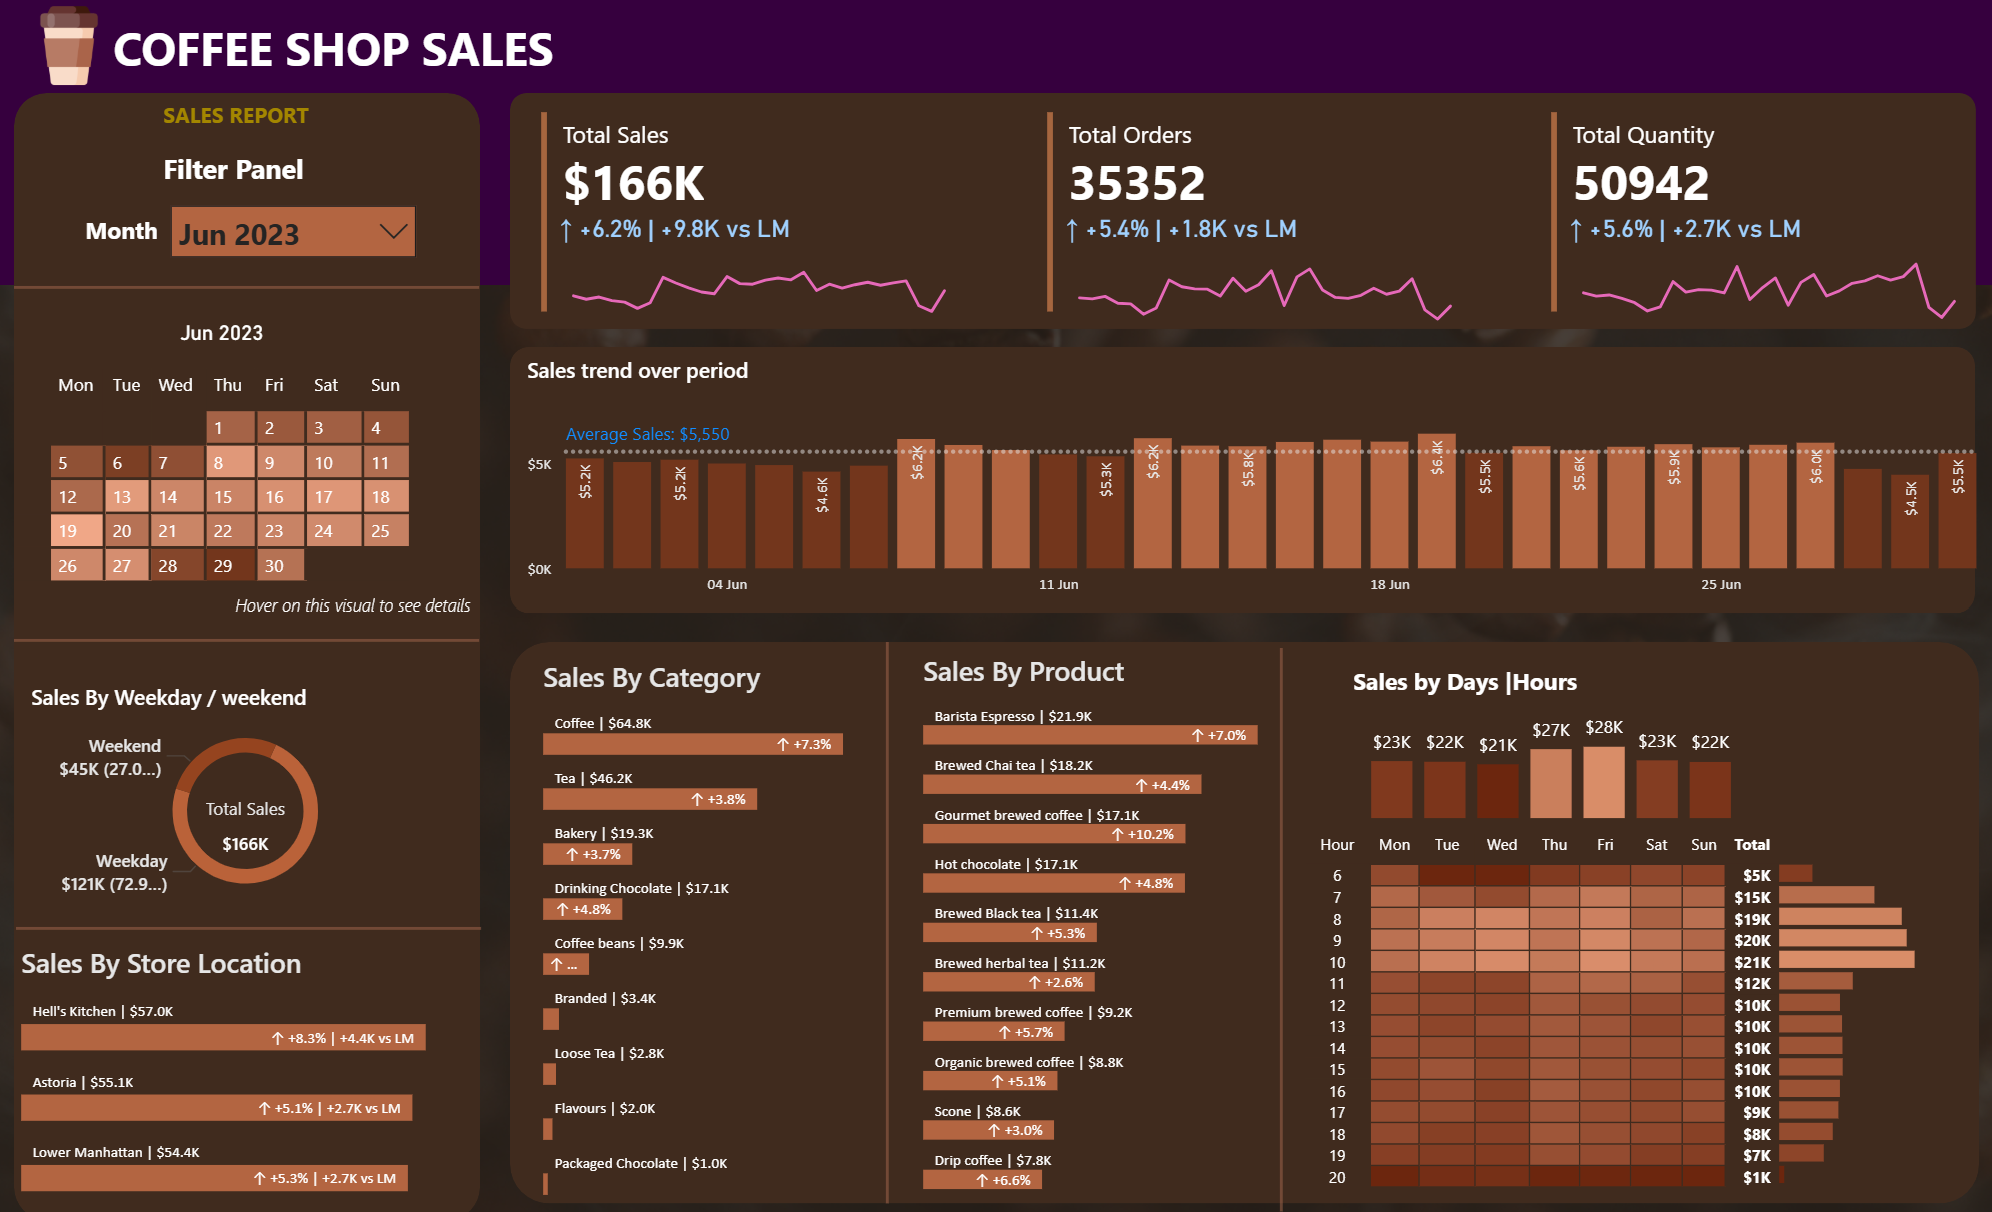

Layout of this report page (visuals, bound fields, positions):
{"tool":"powerbi","page":{"name":"Page 1","canvas":[1400,850],"ordinal":0},"visuals":[{"type":"shape","box":[0,0,1400,199.4],"z":0},{"type":"shape","box":[20.9,65.5,324.9,785.1],"z":1000},{"type":"shape","box":[366.7,65.5,1022.1,164.5],"z":2000},{"type":"textbox","box":[85.1,7,334.7,58.6],"z":3000},{"type":"cardVisual","title":"Total Sales","fields":{"Data":["Transactions.Total Sales"]},"box":[383.5,73.9,299.8,149.2],"z":4000,"group":"g1"},{"type":"cardVisual","title":"Total Sales","fields":{"Data":["Transactions.Total Orders"]},"box":[735.6,73.9,299.8,149.2],"z":4000,"group":"g2"},{"type":"cardVisual","title":"Total Sales","fields":{"Data":["Transactions.Total Quantity"]},"box":[1087.6,73.9,299.8,149.2],"z":4000,"group":"g3"},{"type":"slicer","fields":{"Values":["Date Table.Month Year"]},"box":[120,133.3,191.7,56.7],"z":4000},{"type":"group","id":"g1","title":"Group 1","box":[383.5,73.9,301.2,156.2],"z":5000},{"type":"group","id":"g2","title":"Group 1","box":[735.6,73.9,301.2,156.2],"z":6000},{"type":"lineChart","fields":{"Category":["Date Table.Date Hierarchy.Date"],"Y":["Transactions.Total Sales"]},"box":[396,149.2,288.6,80.9],"z":6000,"group":"g1"},{"type":"lineChart","fields":{"Category":["Date Table.Date Hierarchy.Date"],"Y":["Transactions.Total Orders"]},"box":[748.1,149.2,288.6,80.9],"z":6000,"group":"g2"},{"type":"lineChart","fields":{"Category":["Date Table.Date Hierarchy.Date"],"Y":["Transactions.Total Quantity"]},"box":[1100.1,149.2,288.6,80.9],"z":6000,"group":"g3"},{"type":"group","id":"g3","title":"Group 1","box":[1087.6,73.9,301.2,156.2],"z":7000},{"type":"pivotTable","fields":{"Rows":["Date Table.Week Number"],"Columns":["Date Table.Day Name"],"Values":["Min(Date Table.Day Number)"]},"box":[16.7,252.4,305,190],"z":8000},{"type":"cardVisual","fields":{"Data":["Min(Date Table.Month Year)"]},"box":[119.9,199.4,96.2,54.4],"z":9000},{"type":"card","fields":{"Values":["Transactions.Foot Note"]},"box":[168.7,407.2,177.1,34.9],"z":10000},{"type":"shape","box":[21.4,435.7,324.3,22.9],"z":11000},{"type":"shape","box":[21.4,190,324.3,22.9],"z":12000},{"type":"donutChart","title":"Sales By Weekday / weekend","fields":{"Category":["Date Table.Weekday / Weekend"],"Y":["Transactions.Total Sales"]},"box":[28.6,475.7,308.6,160],"z":13000},{"type":"cardVisual","fields":{"Data":["Transactions.Total Sales"]},"box":[128.6,535.7,108.6,80],"z":14000},{"type":"shape","box":[22.9,635.7,324.3,22.9],"z":15000},{"type":"clusteredBarChart","title":"Sales By Store Location","fields":{"Y":["Transactions.Placeholder","Transactions.Total Sales"],"Category":["Transactions.store_location"]},"box":[21.4,658.6,315.7,180],"z":16000},{"type":"shape","box":[367.1,242.9,1021.4,185],"z":17000},{"type":"shape","box":[367.1,447.1,1024.3,391.4],"z":18000},{"type":"columnChart","title":"Sales trend over period","fields":{"Category":["Transactions.transaction_date"],"Y":["Transactions.Total Sales"]},"box":[374.3,248.6,1021.4,175.7],"z":19000},{"type":"clusteredBarChart","title":"Sales By Category","fields":{"Y":["Transactions.Placeholder","Transactions.Total Sales"],"Category":["Transactions.product_category"]},"box":[384.3,458.6,245.7,380],"z":20000},{"type":"shape","box":[591.4,447.1,77.1,391.4],"z":21000},{"type":"clusteredBarChart","title":"Sales By Product","fields":{"Y":["Transactions.Placeholder","Transactions.Total Sales"],"Category":["Transactions.product_type"]},"box":[650,454.3,272.9,380],"z":22000},{"type":"shape","box":[865.7,451.4,77.1,392.9],"z":23000},{"type":"pivotTable","fields":{"Rows":["Transactions.Hour"],"Columns":["Date Table.Day Name"],"Values":["Transactions.Total Sales"]},"box":[915.7,575.7,402.9,270],"z":24000},{"type":"barChart","fields":{"Category":["Transactions.Hour"],"Y":["Transactions.Total Sales"]},"box":[1246.7,590,143.3,240],"z":25000},{"type":"clusteredColumnChart","fields":{"Y":["Transactions.Total Sales"],"Category":["Date Table.Day Name"]},"box":[961.7,488.3,261.7,88.3],"z":26000},{"type":"textbox","box":[65,145,76.7,45],"z":27000},{"type":"textbox","box":[120,65,176.7,58.3],"z":28000},{"type":"textbox","box":[120,100,128.3,36.7],"z":29000},{"type":"textbox","box":[950,458.3,335,58.3],"z":30000},{"type":"image","box":[16.7,0,85,65],"z":31000}]}

Visuals, with their boxes in screenshot pixels (x1, y1, x2, y2), scaled from the page's 1400x850 canvas onto the 1992x1212 screenshot:
shape: x1=0 y1=0 x2=1991 y2=284
shape: x1=30 y1=93 x2=492 y2=1211
shape: x1=522 y1=93 x2=1976 y2=328
textbox: x1=121 y1=10 x2=597 y2=94
"Total Sales" cardVisual: x1=546 y1=105 x2=972 y2=318
"Total Sales" cardVisual: x1=1047 y1=105 x2=1473 y2=318
"Total Sales" cardVisual: x1=1547 y1=105 x2=1974 y2=318
slicer - Date Table.Month Year: x1=171 y1=190 x2=444 y2=271
"Group 1" group: x1=546 y1=105 x2=974 y2=328
"Group 1" group: x1=1047 y1=105 x2=1475 y2=328
lineChart - Date Table.Date Hierarchy.Date x Transactions.Total Sales: x1=563 y1=213 x2=974 y2=328
lineChart - Date Table.Date Hierarchy.Date x Transactions.Total Orders: x1=1064 y1=213 x2=1475 y2=328
lineChart - Date Table.Date Hierarchy.Date x Transactions.Total Quantity: x1=1565 y1=213 x2=1976 y2=328
"Group 1" group: x1=1547 y1=105 x2=1976 y2=328
pivotTable - Date Table.Week Number x Date Table.Day Name: x1=24 y1=360 x2=458 y2=631
cardVisual - Min(Date Table.Month Year): x1=171 y1=284 x2=307 y2=362
card - Transactions.Foot Note: x1=240 y1=581 x2=492 y2=630
shape: x1=30 y1=621 x2=492 y2=654
shape: x1=30 y1=271 x2=492 y2=304
"Sales By Weekday / weekend" donutChart: x1=41 y1=678 x2=480 y2=906
cardVisual - Transactions.Total Sales: x1=183 y1=764 x2=338 y2=878
shape: x1=33 y1=906 x2=494 y2=939
"Sales By Store Location" clusteredBarChart: x1=30 y1=939 x2=480 y2=1196
shape: x1=522 y1=346 x2=1976 y2=610
shape: x1=522 y1=638 x2=1980 y2=1196
"Sales trend over period" columnChart: x1=533 y1=354 x2=1986 y2=605
"Sales By Category" clusteredBarChart: x1=547 y1=654 x2=896 y2=1196
shape: x1=841 y1=638 x2=951 y2=1196
"Sales By Product" clusteredBarChart: x1=925 y1=648 x2=1313 y2=1190
shape: x1=1232 y1=644 x2=1341 y2=1204
pivotTable - Transactions.Hour x Date Table.Day Name: x1=1303 y1=821 x2=1876 y2=1206
barChart - Transactions.Hour x Transactions.Total Sales: x1=1774 y1=841 x2=1978 y2=1183
clusteredColumnChart - Transactions.Total Sales x Date Table.Day Name: x1=1368 y1=696 x2=1741 y2=822
textbox: x1=92 y1=207 x2=202 y2=271
textbox: x1=171 y1=93 x2=422 y2=176
textbox: x1=171 y1=143 x2=353 y2=195
textbox: x1=1352 y1=653 x2=1828 y2=737
image: x1=24 y1=0 x2=145 y2=93
